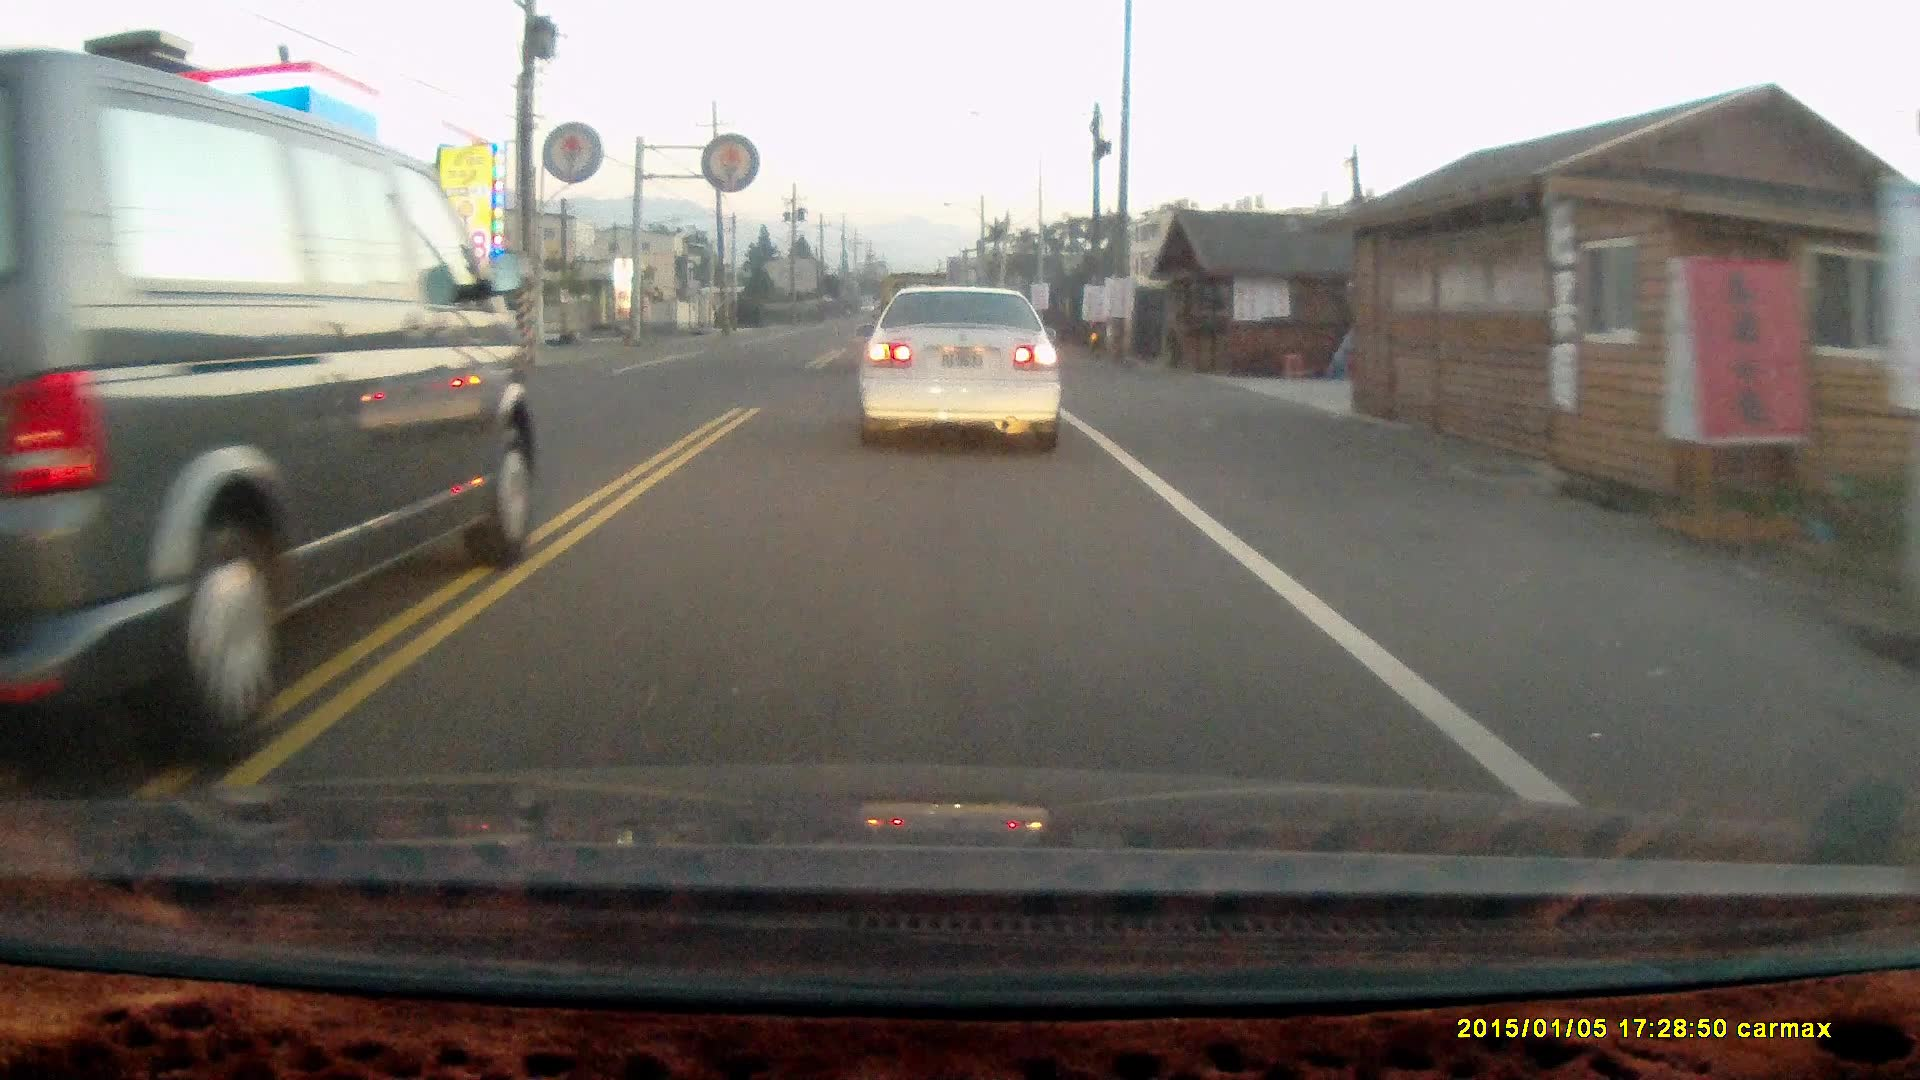vehicle: (1, 59, 539, 745), (858, 280, 1067, 456)
